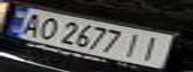2: (54, 19, 81, 46)
6: (72, 21, 93, 50)
7: (103, 26, 127, 55), (87, 24, 109, 52)
A: (12, 10, 48, 37)
I: (133, 34, 172, 62), (121, 30, 148, 60)
O: (30, 16, 63, 40)
